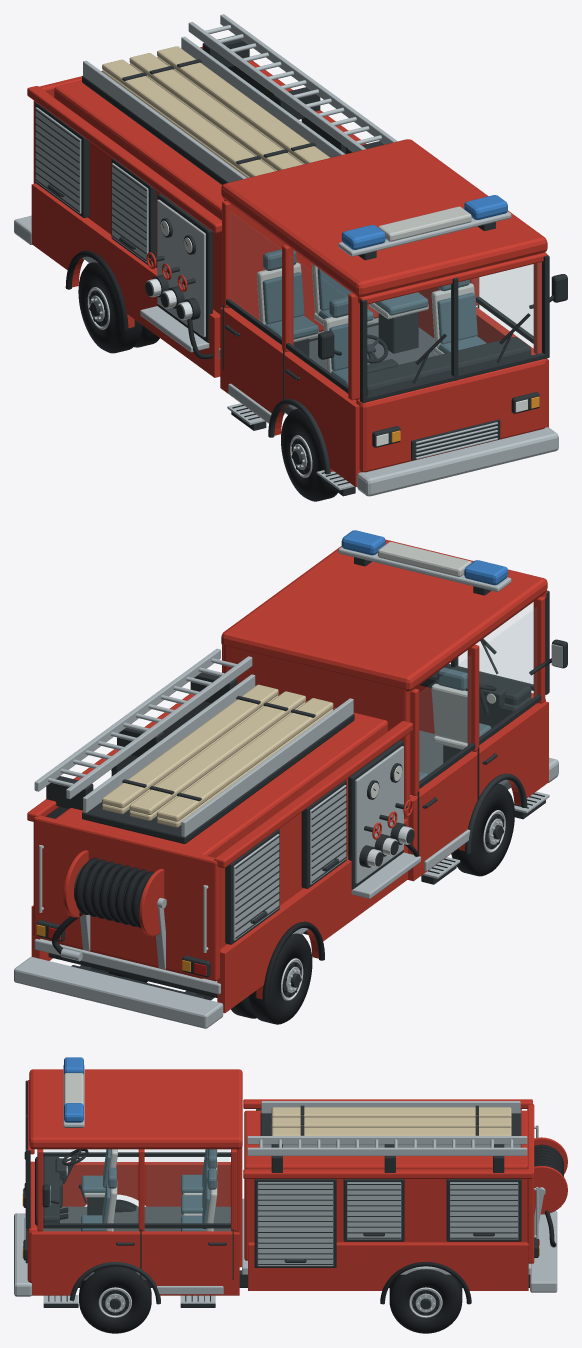
File: city-fire-pumper-truck.glb
3 views of the same model, one above another, from view 1: azimuth 30°, elevation 25°; view 2: azimuth 150°, elevation 25°; view 3: azimuth 270°, elevation 25° (orthographic). The views are drawn at different scales.
Visible parts, largest first — view 1: Assembly | Brick red service vehicle paint, Assembly | Satin aluminium and plated steel, Assembly | Graphite chassis and trim, Assembly | Muted linen hose covering, Assembly | Charcoal tire and seal rubber, Assembly | Blue grey seat upholstery, Assembly | Light warm interior lining, Assembly | Lightly tinted alpha blended glazing, Assembly | Opaque inactive blue beacon lenses, Assembly | Non slip dark interior floor, Assembly | Polished metal detail; view 2: Assembly | Brick red service vehicle paint, Assembly | Satin aluminium and plated steel, Assembly | Graphite chassis and trim, Assembly | Muted linen hose covering, Assembly | Charcoal tire and seal rubber, Assembly | Light warm interior lining, Assembly | Lightly tinted alpha blended glazing, Assembly | Opaque inactive blue beacon lenses, Assembly | Polished metal detail, Assembly | Non slip dark interior floor, Assembly | Blue grey seat upholstery; view 3: Assembly | Brick red service vehicle paint, Assembly | Satin aluminium and plated steel, Assembly | Graphite chassis and trim, Assembly | Charcoal tire and seal rubber, Assembly | Muted linen hose covering, Assembly | Blue grey seat upholstery, Assembly | Non slip dark interior floor, Assembly | Light warm interior lining, Assembly | Opaque inactive blue beacon lenses, Assembly | Polished metal detail.
Part boxes in pixels (left/top/right/bottom): Assembly | Brick red service vehicle paint: left=27, top=46, right=548, bottom=486; Assembly | Satin aluminium and plated steel: left=14, top=14, right=558, bottom=496; Assembly | Graphite chassis and trim: left=35, top=35, right=567, bottom=496; Assembly | Muted linen hose covering: left=102, top=46, right=330, bottom=177; Assembly | Charcoal tire and seal rubber: left=65, top=250, right=530, bottom=501; Assembly | Blue grey seat upholstery: left=262, top=249, right=486, bottom=385; Assembly | Light warm interior lining: left=256, top=206, right=474, bottom=388; Assembly | Lightly tinted alpha blended glazing: left=476, top=264, right=533, bottom=339; Assembly | Opaque inactive blue beacon lenses: left=341, top=195, right=507, bottom=249; Assembly | Non slip dark interior floor: left=284, top=325, right=437, bottom=414; Assembly | Polished metal detail: left=87, top=278, right=312, bottom=477; Assembly | Brick red service vehicle paint: left=27, top=539, right=548, bottom=1013; Assembly | Satin aluminium and plated steel: left=14, top=547, right=562, bottom=1028; Assembly | Graphite chassis and trim: left=36, top=557, right=567, bottom=1000; Assembly | Muted linen hose covering: left=102, top=684, right=333, bottom=827; Assembly | Charcoal tire and seal rubber: left=52, top=638, right=544, bottom=1024; Assembly | Light warm interior lining: left=378, top=542, right=490, bottom=795; Assembly | Lightly tinted alpha blended glazing: left=456, top=609, right=533, bottom=686; Assembly | Opaque inactive blue beacon lenses: left=341, top=530, right=507, bottom=585; Assembly | Polished metal detail: left=281, top=810, right=505, bottom=1000; Assembly | Non slip dark interior floor: left=419, top=730, right=511, bottom=789; Assembly | Blue grey seat upholstery: left=419, top=667, right=491, bottom=780; Assembly | Brick red service vehicle paint: left=27, top=1069, right=567, bottom=1295; Assembly | Satin aluminium and plated steel: left=14, top=1065, right=557, bottom=1315; Assembly | Graphite chassis and trim: left=23, top=1080, right=538, bottom=1315; Assembly | Charcoal tire and seal rubber: left=24, top=1144, right=563, bottom=1333; Assembly | Muted linen hose covering: left=271, top=1107, right=511, bottom=1135; Assembly | Blue grey seat upholstery: left=81, top=1149, right=216, bottom=1231; Assembly | Non slip dark interior floor: left=43, top=1206, right=230, bottom=1280; Assembly | Light warm interior lining: left=64, top=1073, right=217, bottom=1231; Assembly | Opaque inactive blue beacon lenses: left=64, top=1057, right=83, bottom=1122; Assembly | Polished metal detail: left=98, top=1287, right=442, bottom=1317.
Size of the model in its own units: 3.07 by 3.31 by 7.76.
